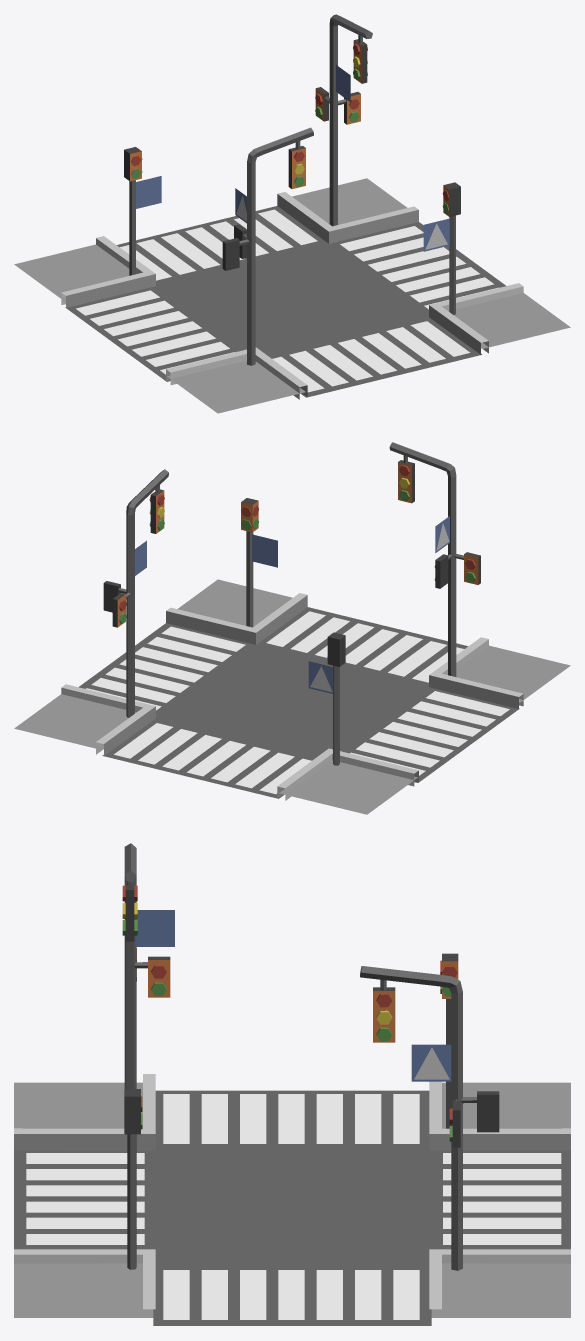
File: road_tile_1x1_004.glb
3 renders of one model, top to bottom at view 1: azimuth 30°, elevation 25°; view 2: azimuth 150°, elevation 25°; view 3: azimuth 270°, elevation 25°, orthographic. The views are drawn at different scales.
Parts seen in each view (by area): view 1: road_tile_1x1_004; view 2: road_tile_1x1_004; view 3: road_tile_1x1_004.
Boxes of the visible parts, left/top/right/bottom form: road_tile_1x1_004: left=14, top=14, right=570, bottom=413; road_tile_1x1_004: left=14, top=442, right=570, bottom=814; road_tile_1x1_004: left=14, top=843, right=570, bottom=1325.
Size of the model in its own units: 8 by 4.94 by 8.
1 material, 1 textured.
